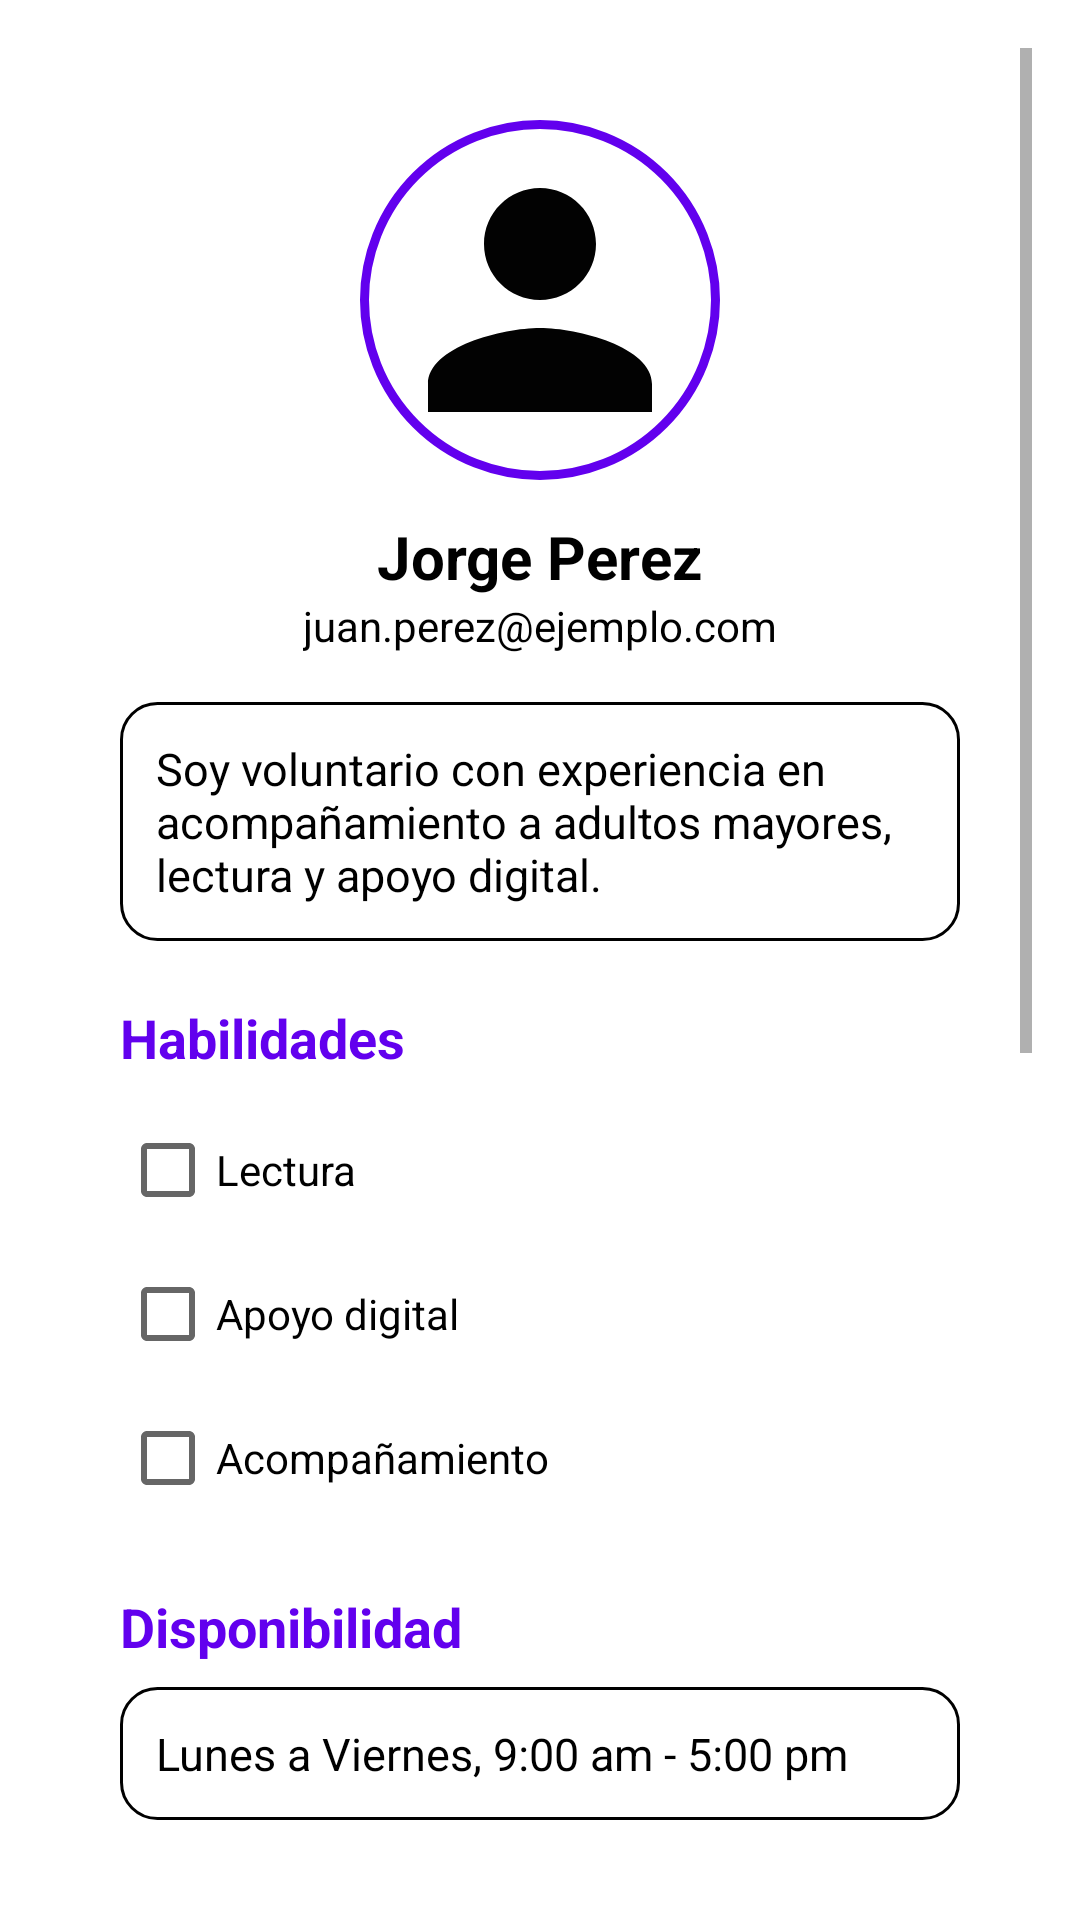

Where icons sit on this 1080px×1920px app screen, as detection(x1, y1, x2, y2):
person: detection(360, 120, 720, 480)
